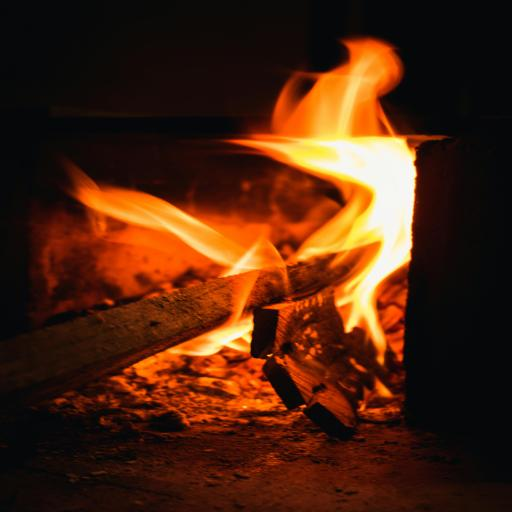campfire: (0, 32, 479, 442)
fire: (271, 70, 426, 286)
